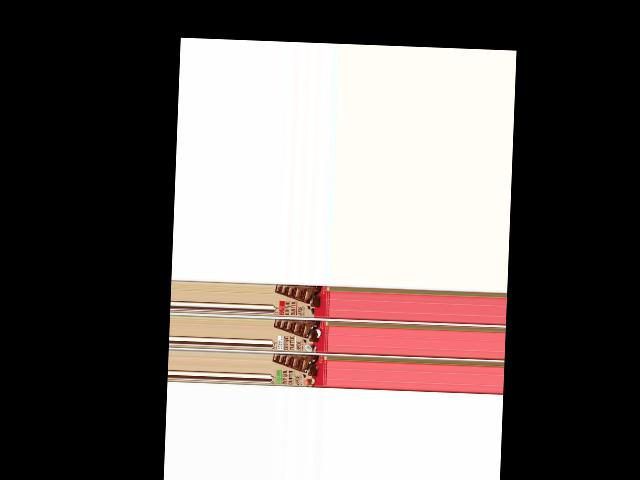chocolate: (271, 354, 328, 389)
